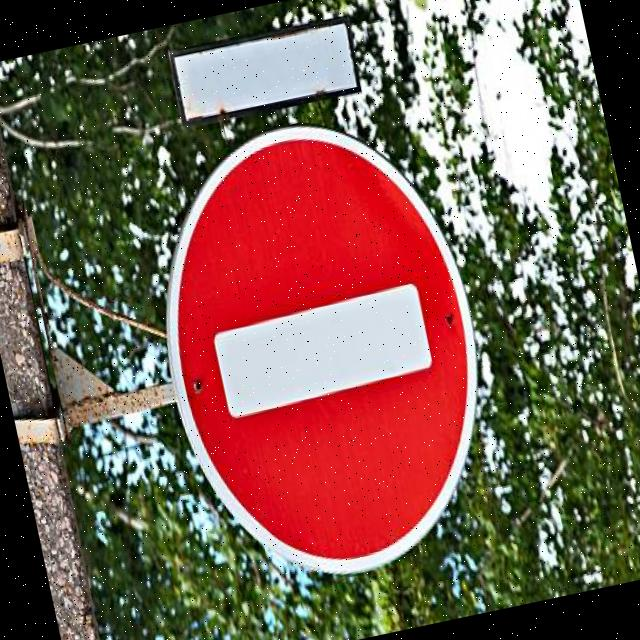do_not_enter: (127, 98, 525, 611)
